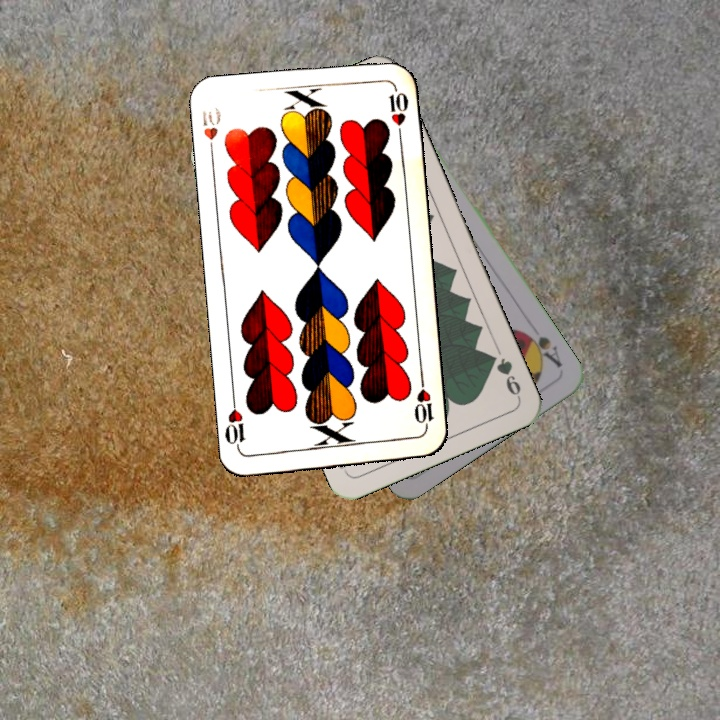G9: (484, 349, 524, 401)
H10: (410, 375, 436, 434), (198, 103, 224, 161)
SA: (517, 326, 565, 371)
